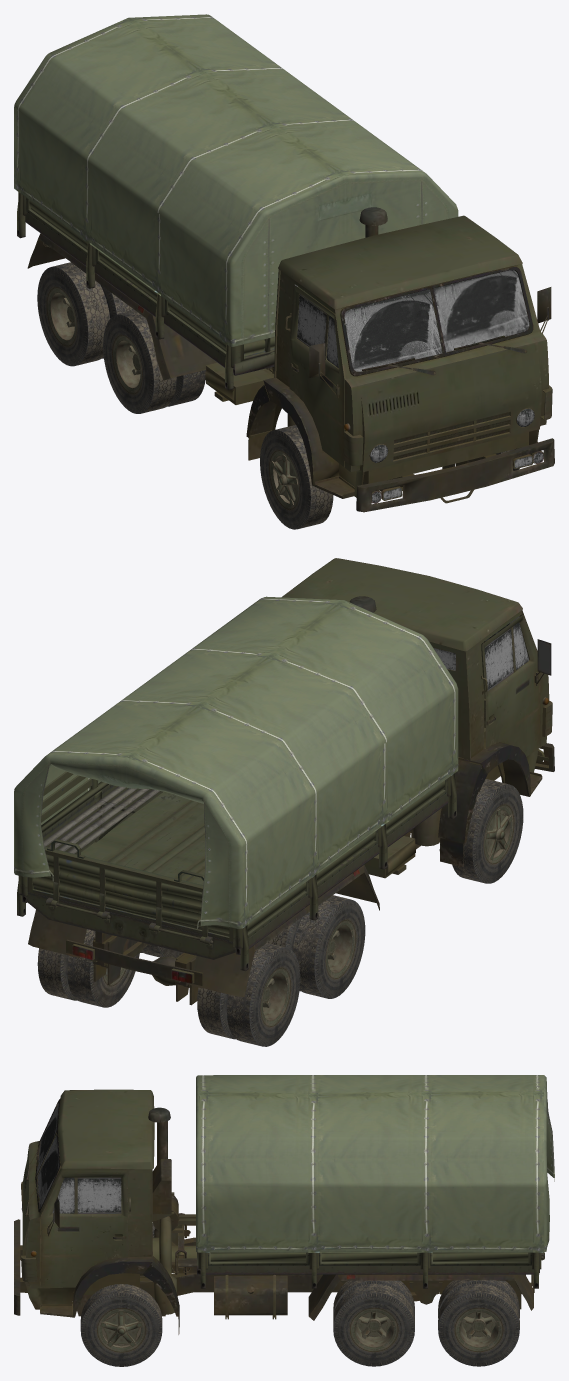
The model's file is kamaz5330.glb.
3 views of the same model, one above another, from view 1: azimuth 30°, elevation 25°; view 2: azimuth 150°, elevation 25°; view 3: azimuth 270°, elevation 25° (orthographic). The views are drawn at different scales.
Visible parts, largest first — view 1: Object_10, Object_8, Object_5, Object_4, Object_6; view 2: Object_10, Object_8, Object_6, Object_5, Object_4; view 3: Object_10, Object_8, Object_5, Object_6, Object_4.
Part boxes in pixels (<box>): Object_10: <box>14,14,458,346</box>; Object_8: <box>27,207,554,512</box>; Object_5: <box>37,262,519,529</box>; Object_4: <box>295,270,543,502</box>; Object_6: <box>17,192,274,390</box>; Object_10: <box>14,596,458,928</box>; Object_8: <box>28,558,554,1005</box>; Object_6: <box>17,771,456,971</box>; Object_5: <box>37,779,523,1046</box>; Object_4: <box>433,616,528,689</box>; Object_10: <box>196,1075,554,1252</box>; Object_8: <box>14,1089,534,1334</box>; Object_5: <box>80,1223,519,1366</box>; Object_6: <box>197,1252,544,1288</box>; Object_4: <box>21,1102,121,1213</box>.
Bounding box in the file's own units: 2.93 × 3.35 × 7.08.
5 materials, 5 textured.
